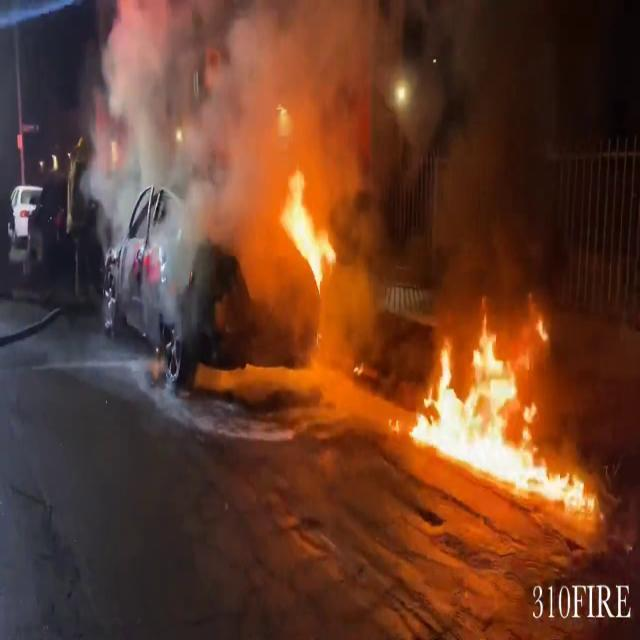Fire: (406, 304, 594, 503), (274, 134, 340, 310)
Smoke: (85, 0, 393, 282), (414, 1, 598, 303)
